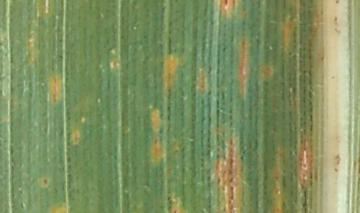tarspot: (43, 179, 48, 185), (224, 1, 229, 7), (174, 210, 178, 212)
